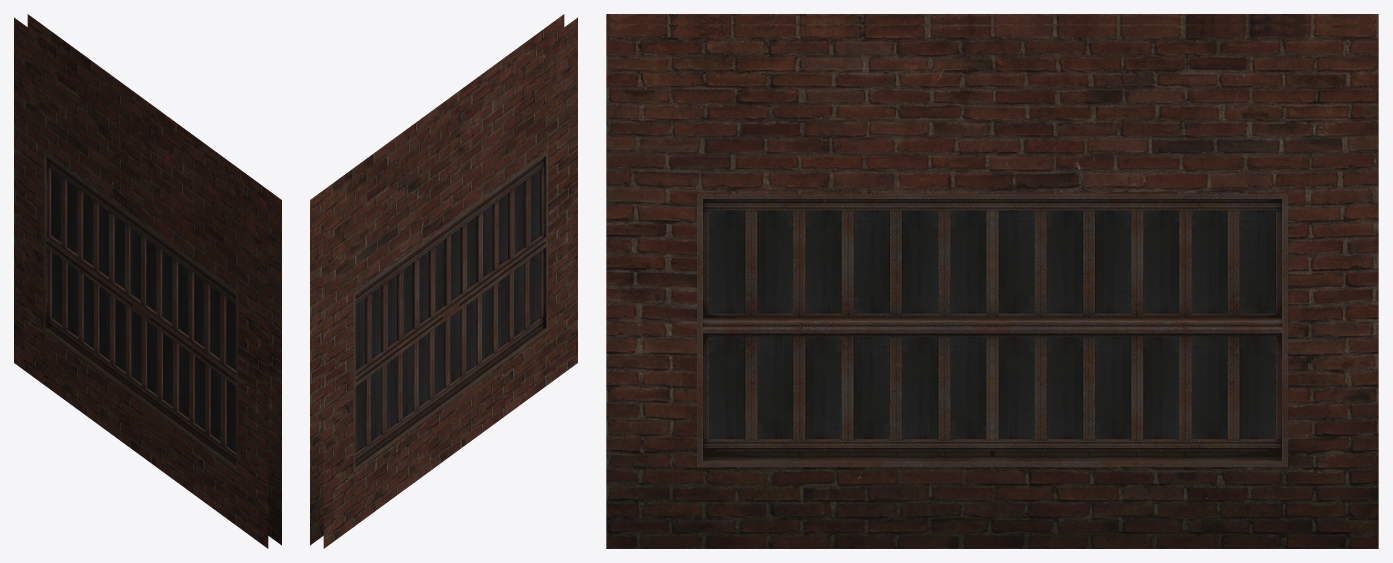
File: walltile_windowlong_5m.fbx
3 renders of one model, left to right at view 1: azimuth 30°, elevation 25°; view 2: azimuth 150°, elevation 25°; view 3: azimuth 270°, elevation 25°, orthographic. The views are drawn at different scales.
Visible parts, largest first — view 1: walltile_windowlong_5m; view 2: walltile_windowlong_5m; view 3: walltile_windowlong_5m.
Boxes of the visible parts, x1=… form: walltile_windowlong_5m: x1=14, y1=14, x2=281, y2=548; walltile_windowlong_5m: x1=310, y1=14, x2=577, y2=548; walltile_windowlong_5m: x1=606, y1=14, x2=1378, y2=548.
Size of the model in its own units: 0.1562 by 3.75 by 5.
